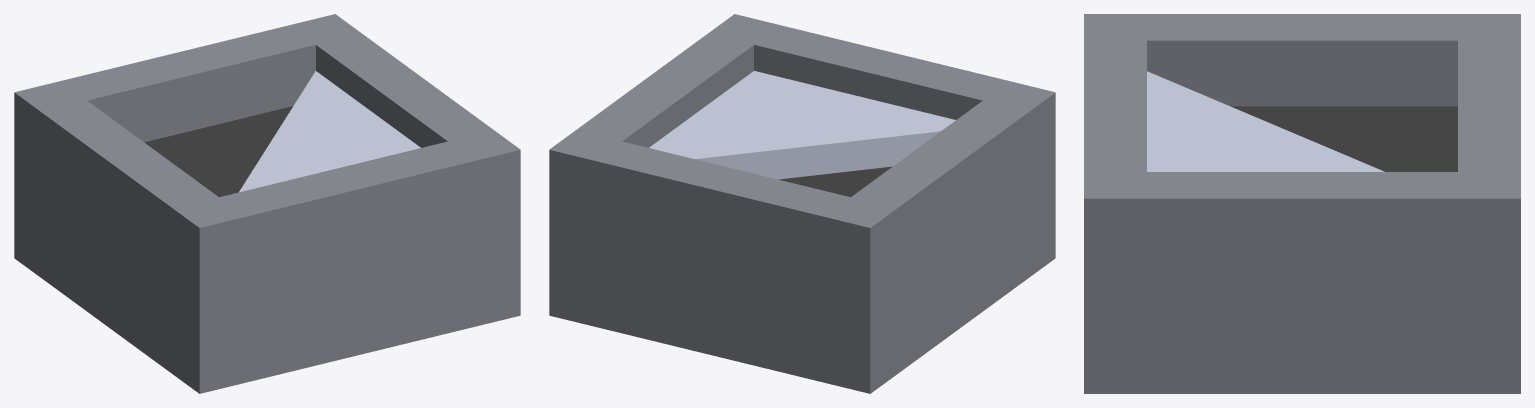
3 views of the same model, side by side, from view 1: azimuth 30°, elevation 25°; view 2: azimuth 150°, elevation 25°; view 3: azimuth 270°, elevation 25° (orthographic). The views are drawn at different scales.
Visible parts, largest first — view 1: object_061; view 2: object_061; view 3: object_061.
Boxes of the visible parts, <box> form: object_061: <box>14,14,520,393</box>; object_061: <box>549,14,1055,393</box>; object_061: <box>1084,14,1520,393</box>.
Size of the model in its own units: 2.29 by 1.13 by 2.29.
